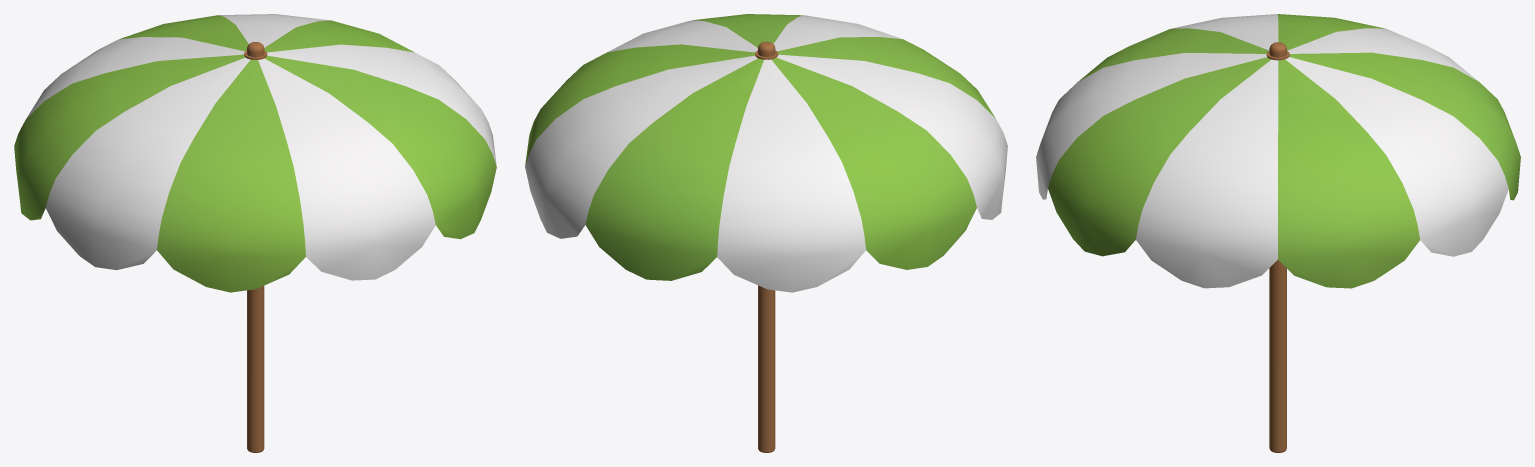
The model's file is beach-umbrella-03.glb.
3 views of the same model, side by side, from view 1: azimuth 30°, elevation 25°; view 2: azimuth 150°, elevation 25°; view 3: azimuth 270°, elevation 25° (orthographic).
Parts seen in each view (by area): view 1: beach umbrella 03; view 2: beach umbrella 03; view 3: beach umbrella 03.
Boxes of the visible parts, x1,y1,x2,y2 form: beach umbrella 03: (14,14,496,452); beach umbrella 03: (525,14,1007,452); beach umbrella 03: (1036,14,1520,452).
Bounding box in the file's own units: 1.97 × 1.82 × 1.97.
Materials: 1 (1 with a texture image).
